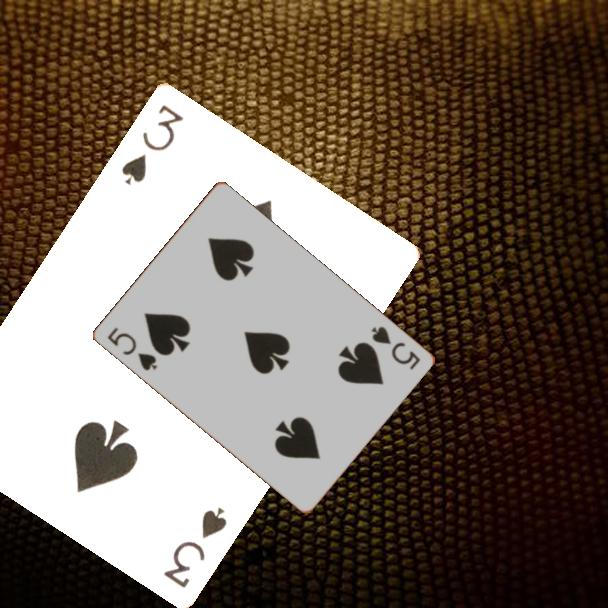s03: (159, 503, 230, 590), (117, 100, 187, 187)
s05: (367, 322, 423, 373), (103, 324, 160, 374)
